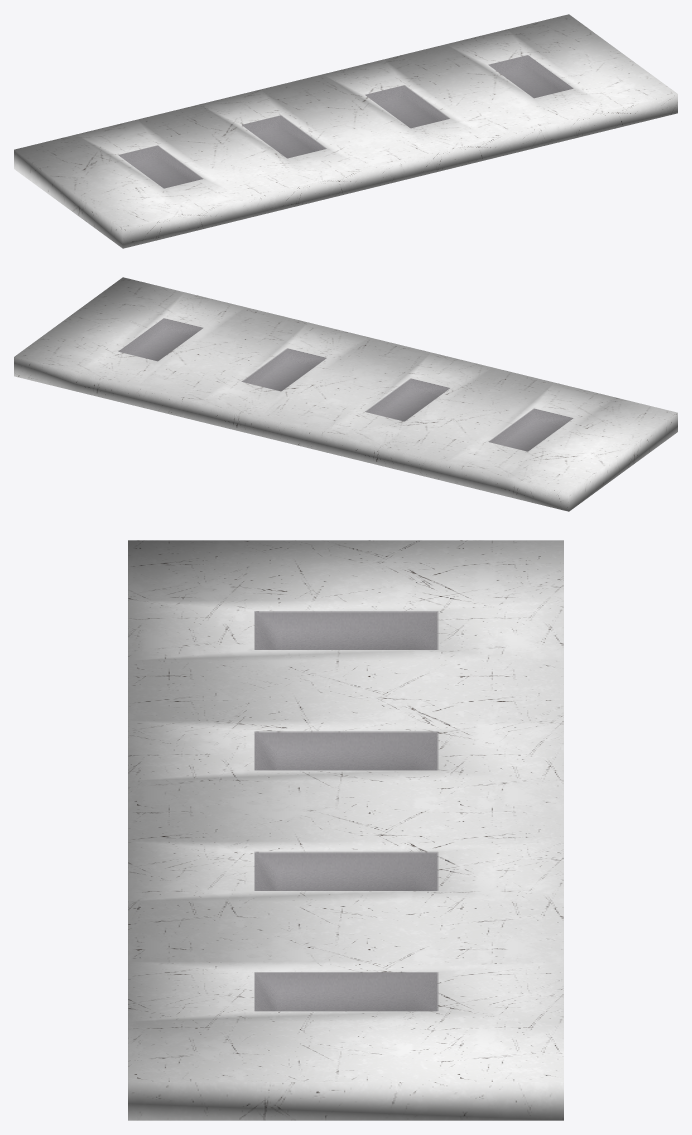
File: Gate_bottom.gltf
3 views of the same model, one above another, from view 1: azimuth 30°, elevation 25°; view 2: azimuth 150°, elevation 25°; view 3: azimuth 270°, elevation 25° (orthographic). The views are drawn at different scales.
Parts seen in each view (by area): view 1: Cube; view 2: Cube; view 3: Cube.
Part boxes in pixels (x1=…): Cube: x1=14, y1=14, x2=677, y2=248; Cube: x1=14, y1=277, x2=677, y2=511; Cube: x1=128, y1=540, x2=563, y2=1120.
Bounding box in the file's own units: 6 × 0.2 × 2.04.
Materials: 1 (1 with a texture image).
